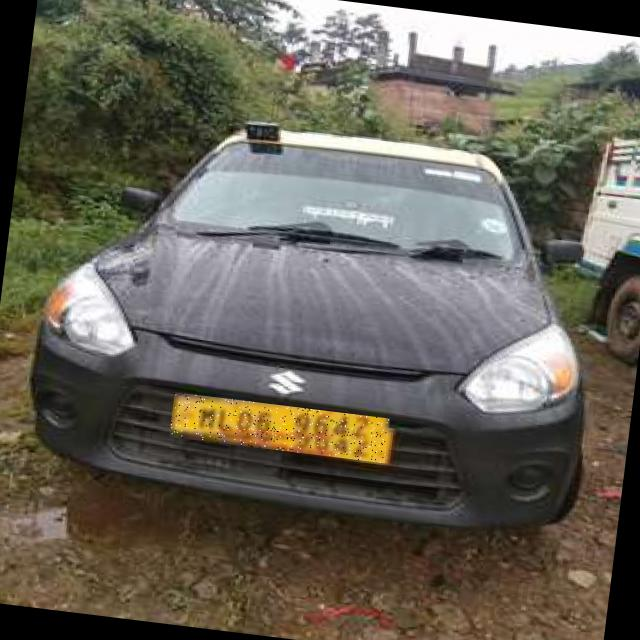Plate: (170, 393, 391, 464)
